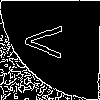V: (25, 25, 72, 59)
